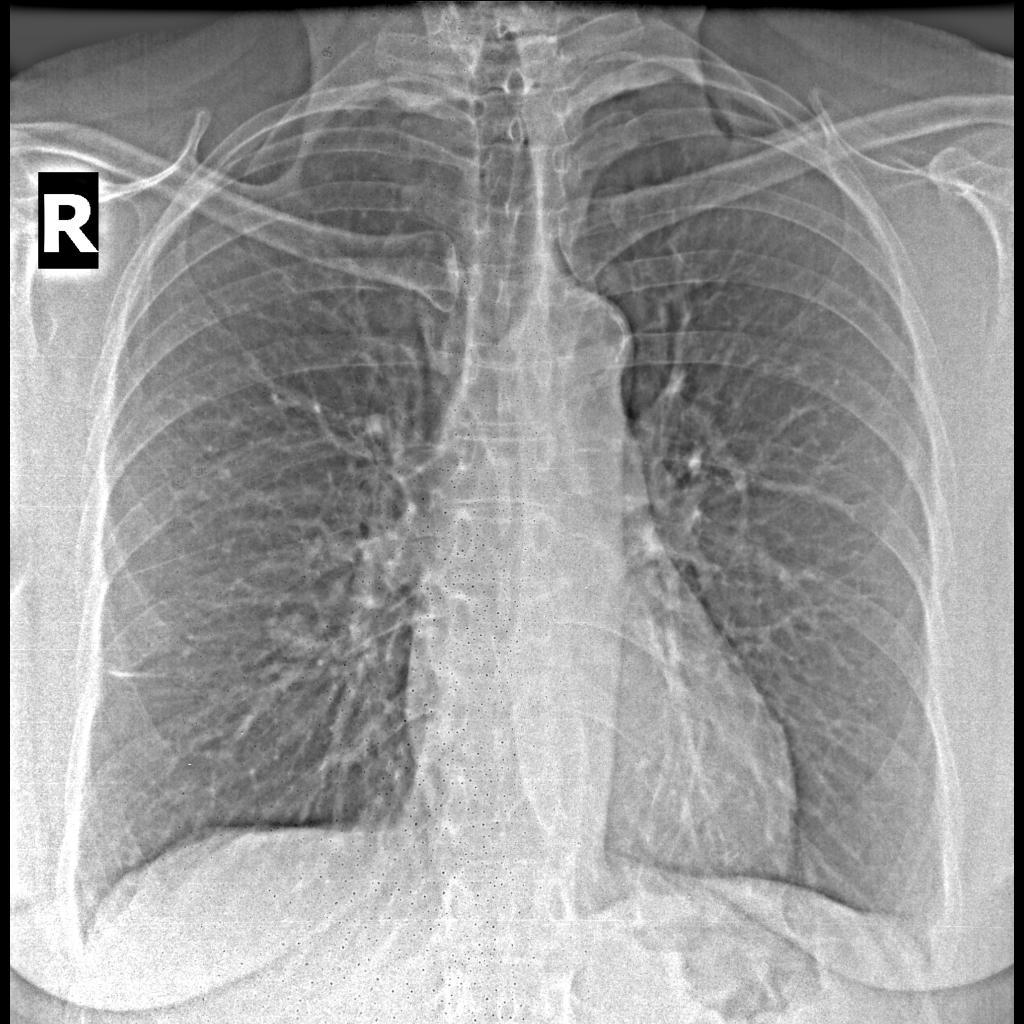Nodule: (257, 597, 326, 666)
